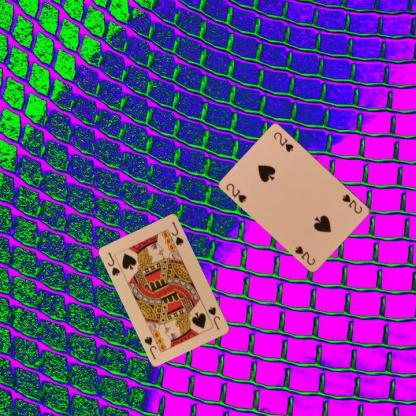2s: (340, 191, 364, 215), (223, 181, 248, 204)
Js: (206, 304, 222, 331), (105, 250, 121, 277)
